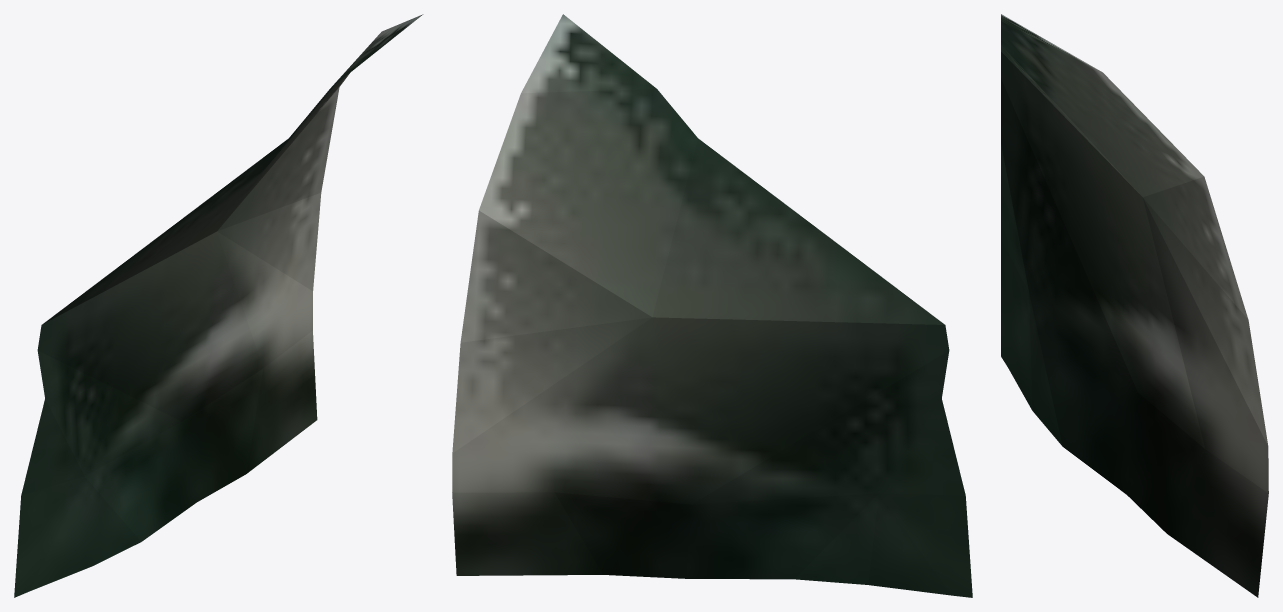
3 renders of one model, left to right at view 1: azimuth 30°, elevation 25°; view 2: azimuth 150°, elevation 25°; view 3: azimuth 270°, elevation 25°, orthographic. The views are drawn at different scales.
Bounding box in the file's own units: 0.2911 × 0.3287 × 0.1365.
Materials: 1 (1 with a texture image).
